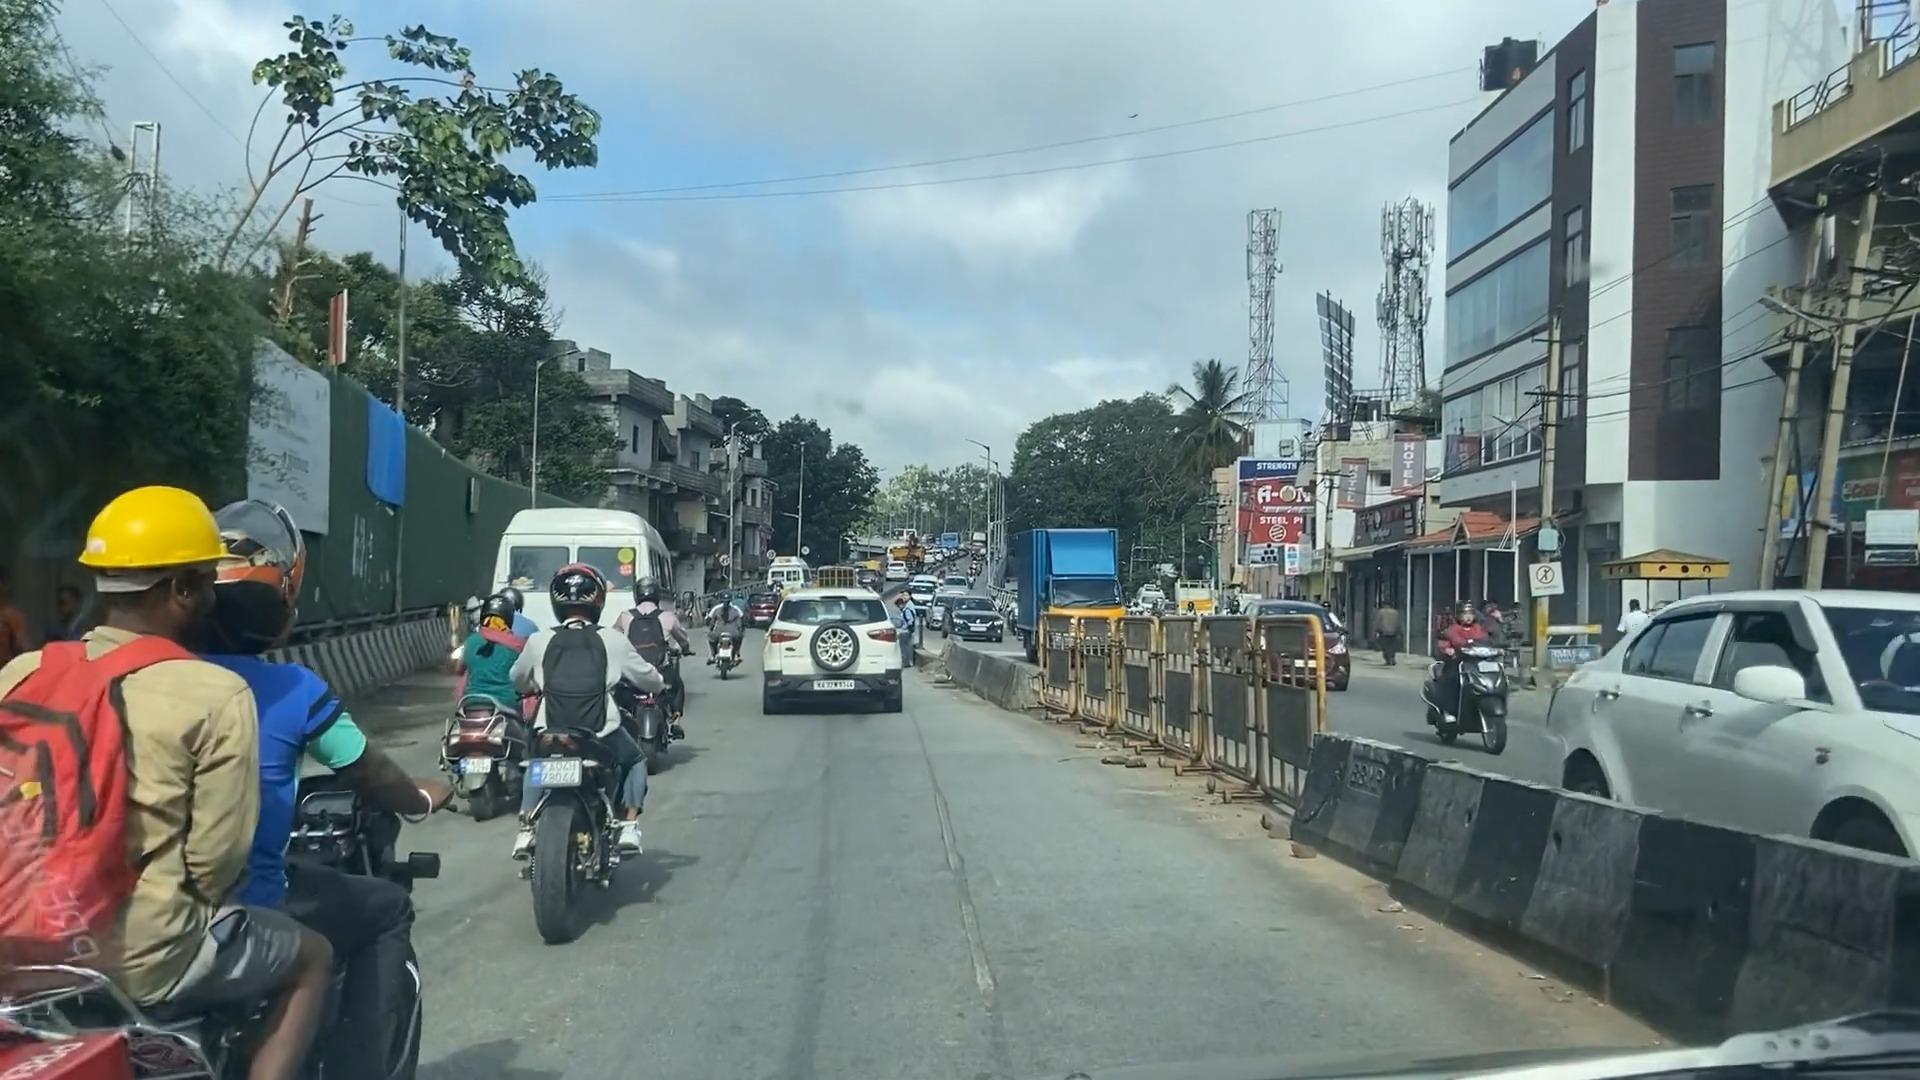LMV: (516, 576, 651, 930), (760, 591, 898, 704)
UnsurfacedRoad: (901, 727, 1011, 1080)
